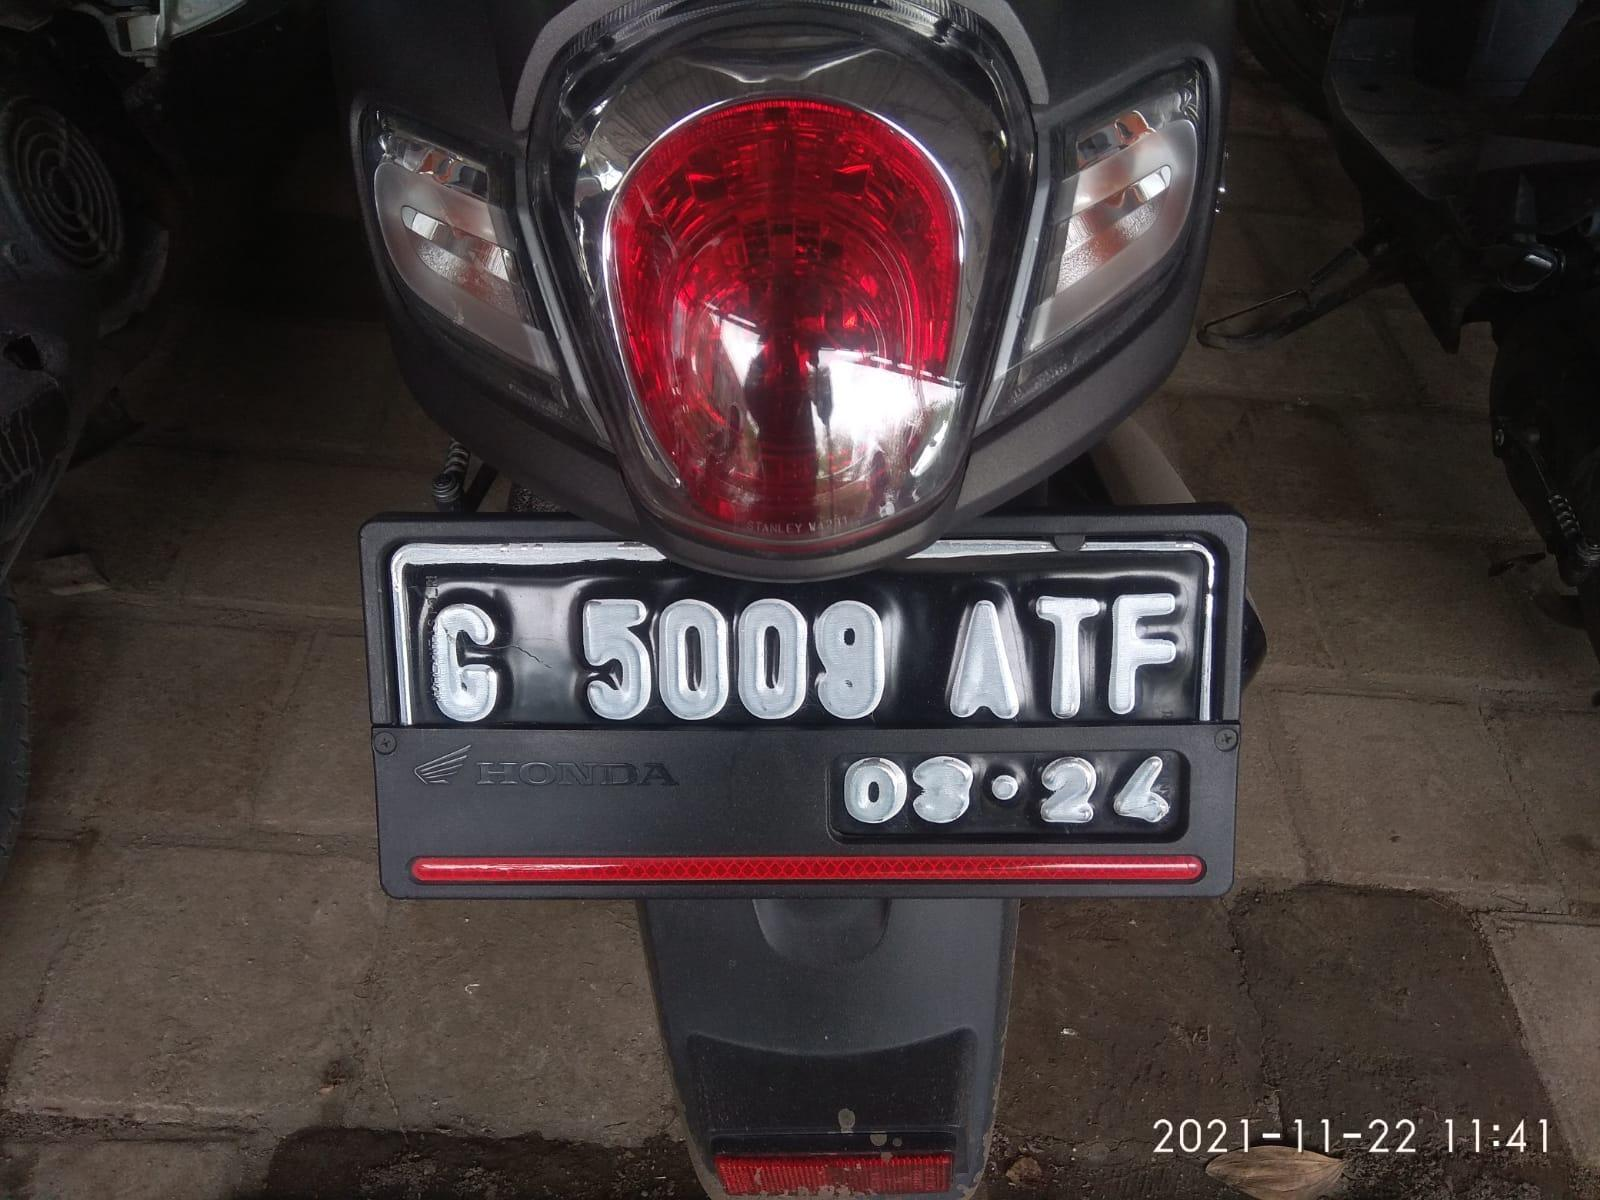clone-license-plate: (358, 520, 1244, 901)
